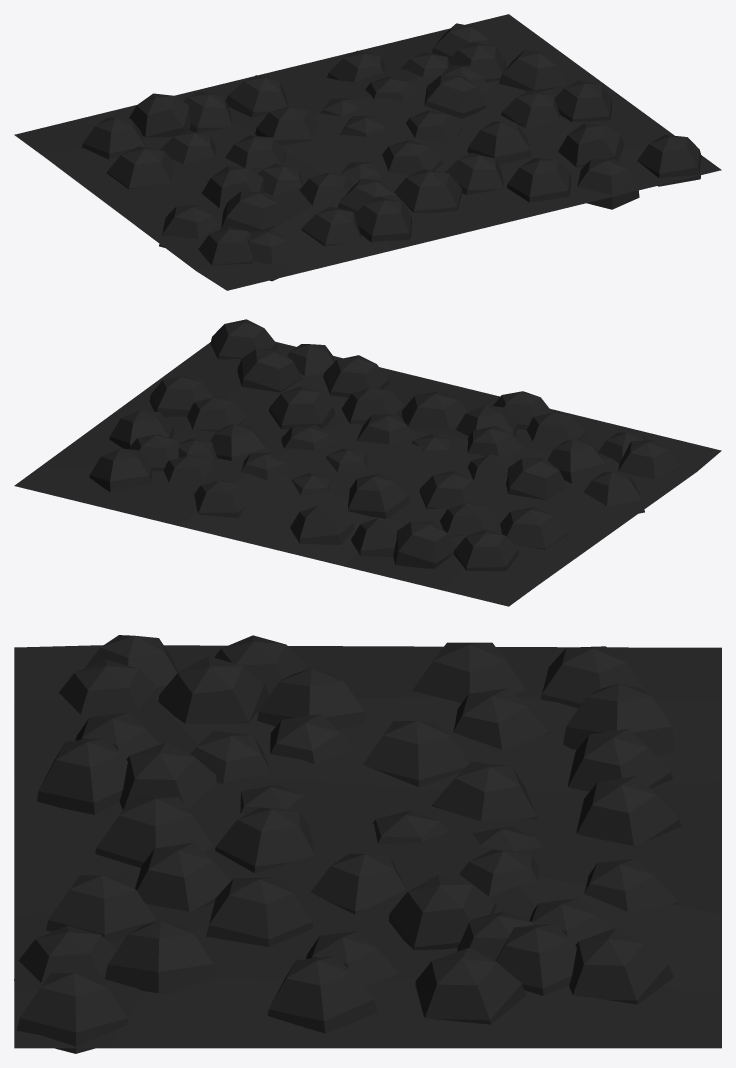
Rendered from samurai_SM_Prop_Ammo_Crate_02_Insert_01.gltf.
3 renders of one model, top to bottom at view 1: azimuth 30°, elevation 25°; view 2: azimuth 150°, elevation 25°; view 3: azimuth 270°, elevation 25°, orthographic. The views are drawn at different scales.
Parts seen in each view (by area): view 1: SM_Prop_Ammo_Crate_02_Insert_01; view 2: SM_Prop_Ammo_Crate_02_Insert_01; view 3: SM_Prop_Ammo_Crate_02_Insert_01.
Part boxes in pixels (x1,y1,x2,y2): SM_Prop_Ammo_Crate_02_Insert_01: [14, 14, 721, 290]; SM_Prop_Ammo_Crate_02_Insert_01: [14, 319, 721, 606]; SM_Prop_Ammo_Crate_02_Insert_01: [14, 635, 721, 1053].
Size of the model in its own units: 0.6633 by 0.0622 by 0.4921.
Materials: 1 (1 with a texture image).
